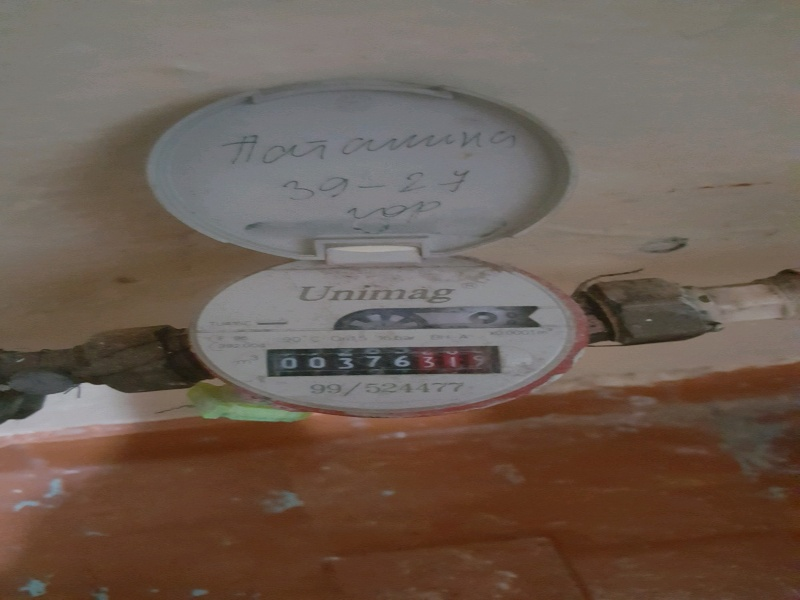meter: (269, 343, 503, 375)
